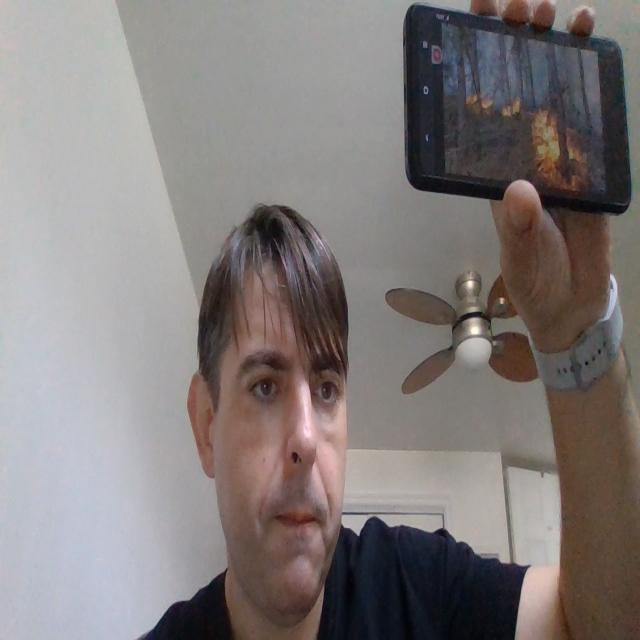Fire: (530, 97, 592, 192), (462, 85, 498, 118), (502, 93, 522, 122)
